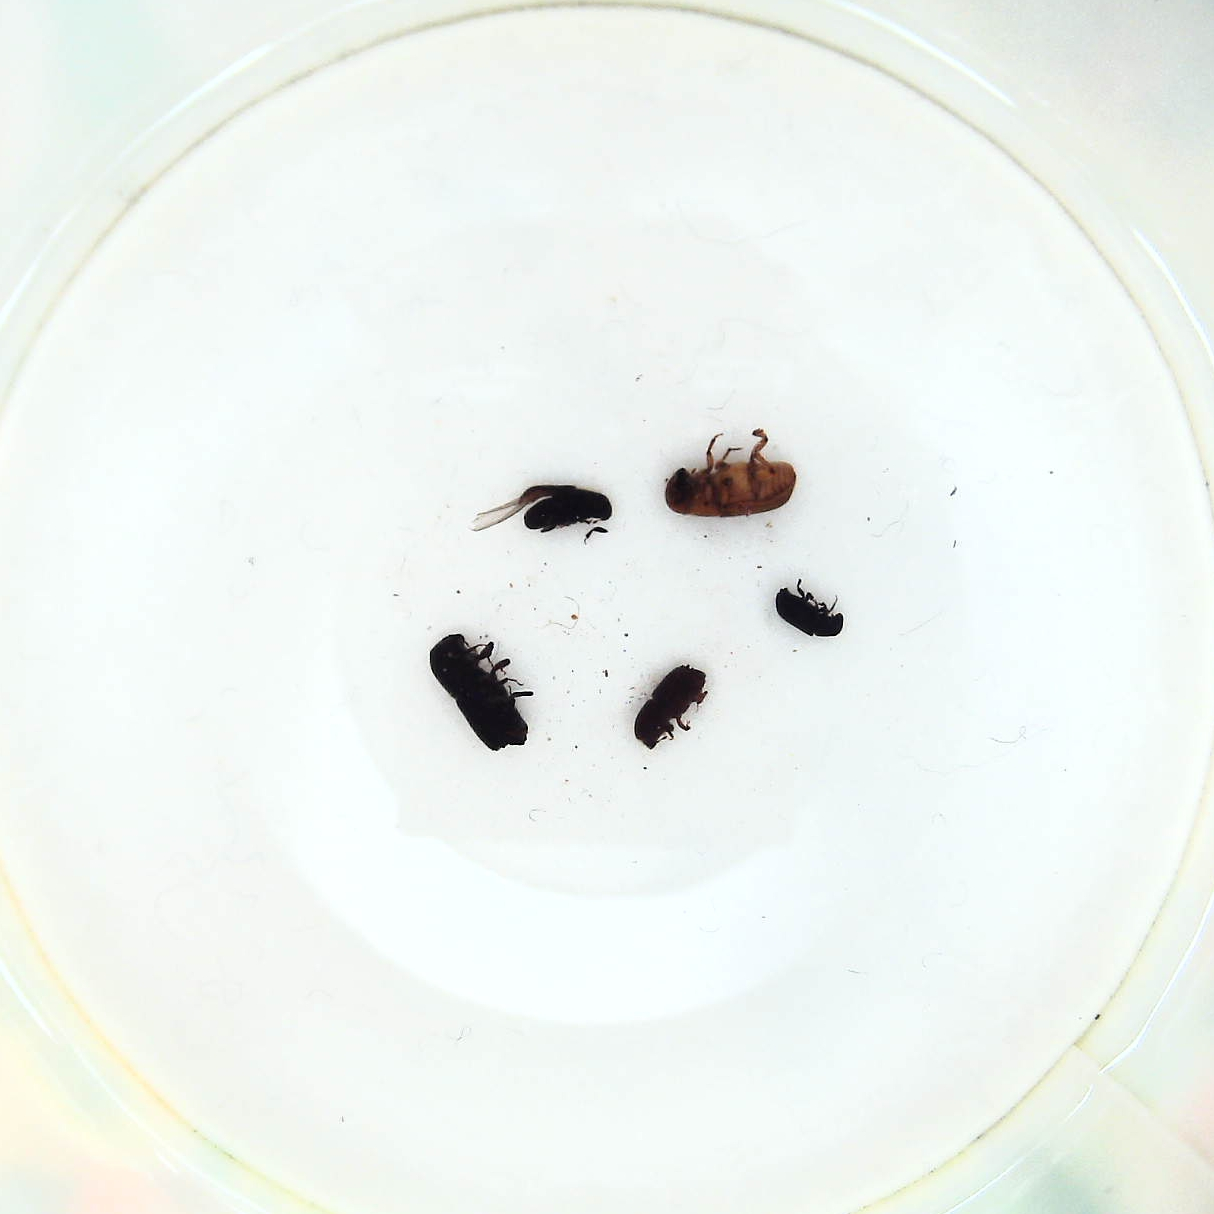Boerner: (427, 626, 541, 753)
Leconte: (661, 424, 800, 524)
armandi: (482, 480, 619, 543)
coleoptera: (773, 577, 846, 643)
linnaeus: (631, 665, 719, 752)
